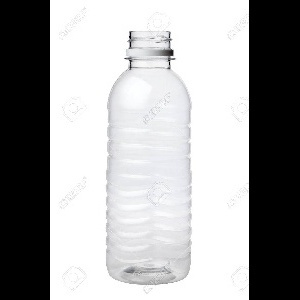emptybottle: (106, 30, 191, 284)
